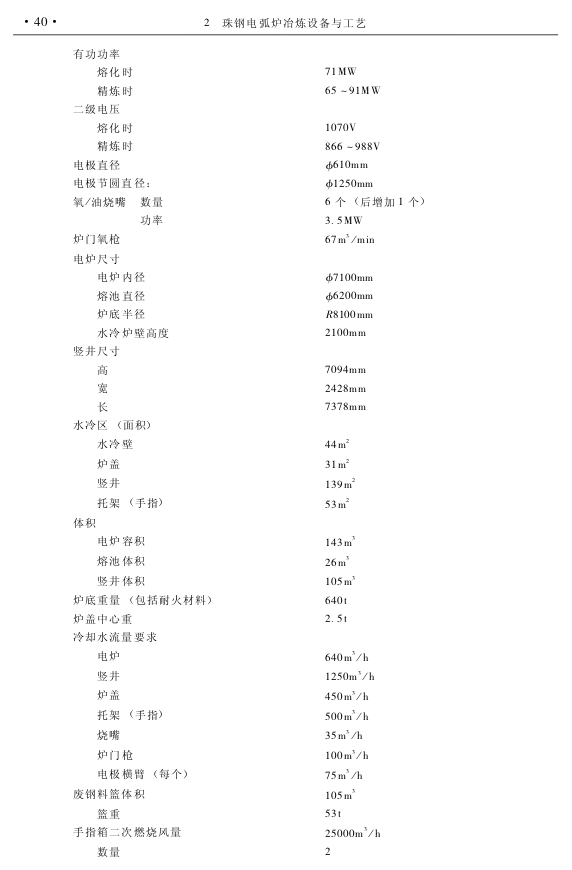table: (73, 47, 423, 856)
